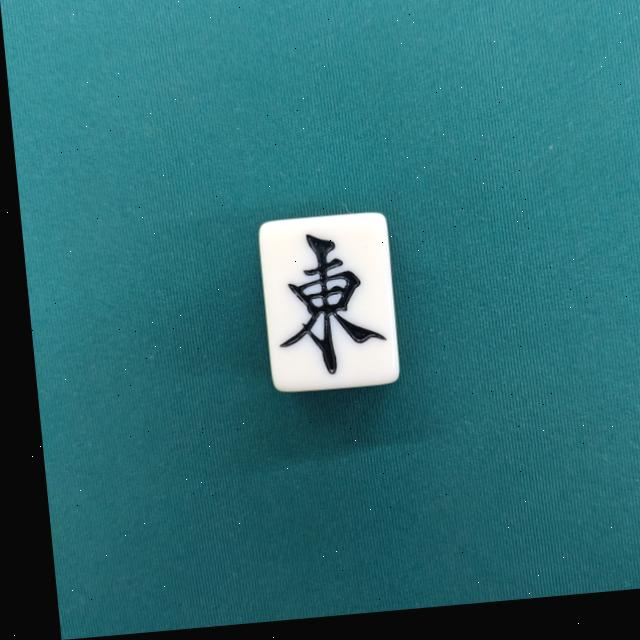higashi: (249, 216, 395, 401)
